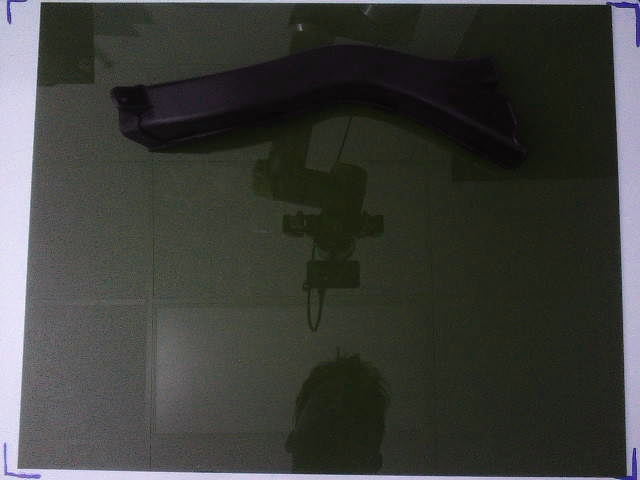887_B-Top: (110, 46, 525, 165)
